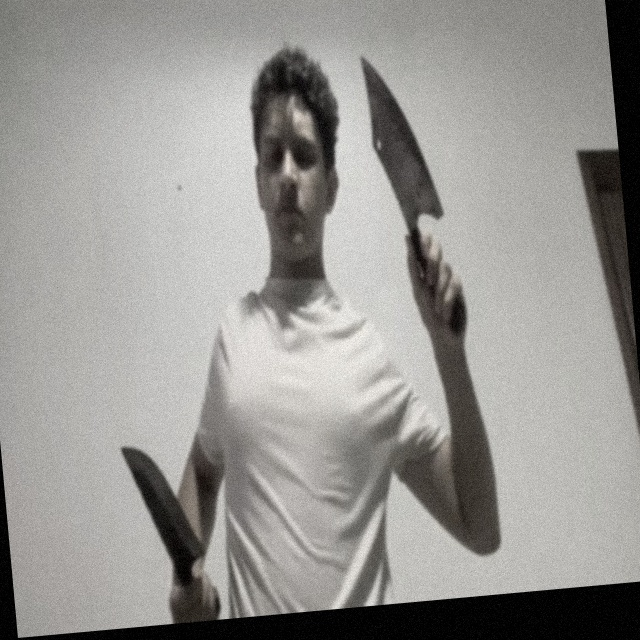Sharp-Object: (359, 49, 445, 231), (120, 437, 204, 568)
